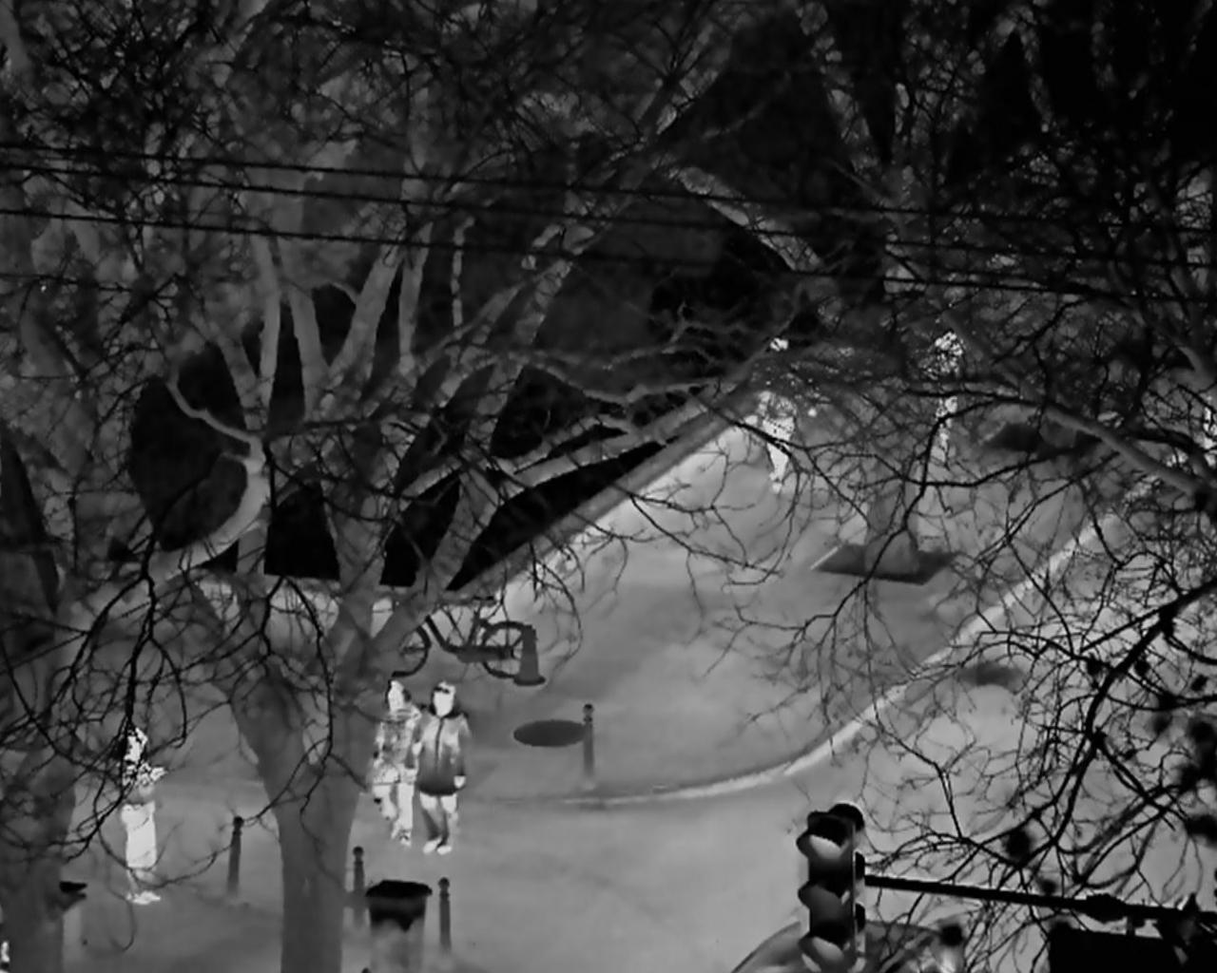person: (414, 681, 473, 854), (119, 726, 169, 903), (369, 678, 415, 846)
